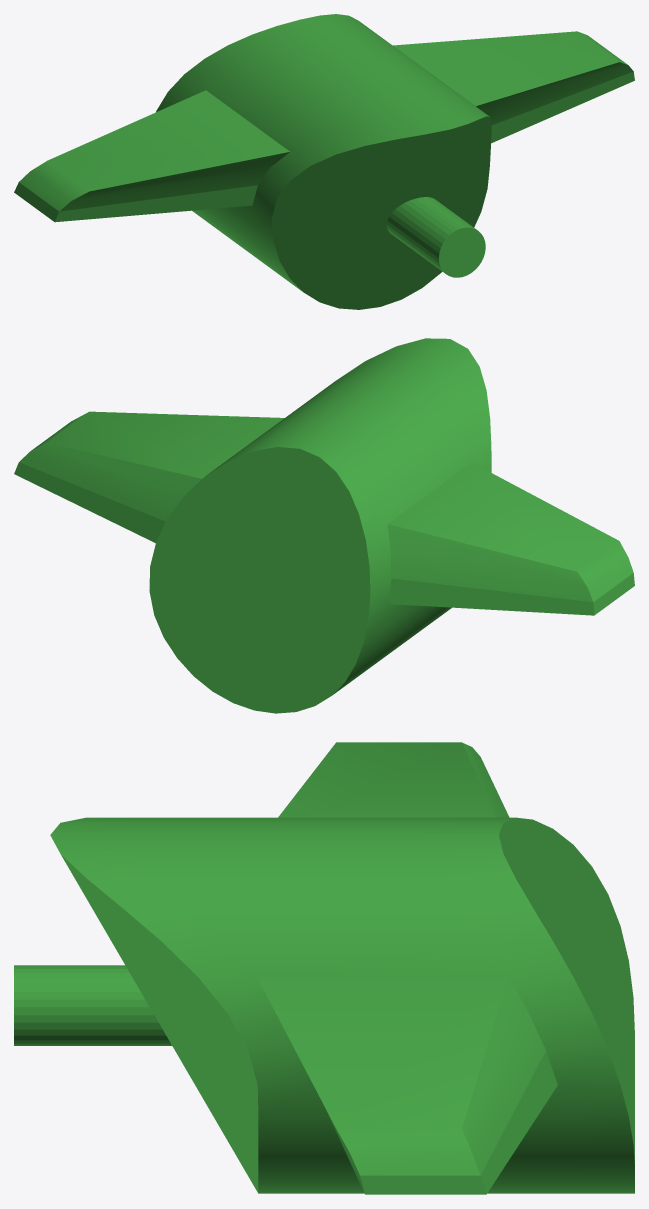
The model's file is snake.fbx.
3 renders of one model, top to bottom at view 1: azimuth 30°, elevation 25°; view 2: azimuth 150°, elevation 25°; view 3: azimuth 270°, elevation 25°, orthographic. The views are drawn at different scales.
Visible parts, largest first — view 1: Snake; view 2: Snake; view 3: Snake.
Boxes of the visible parts, x1=… form: Snake: x1=14, y1=14, x2=634, y2=309; Snake: x1=14, y1=338, x2=634, y2=713; Snake: x1=14, y1=742, x2=634, y2=1194.
Bounding box in the file's own units: 49.09 × 18.47 × 30.45.
